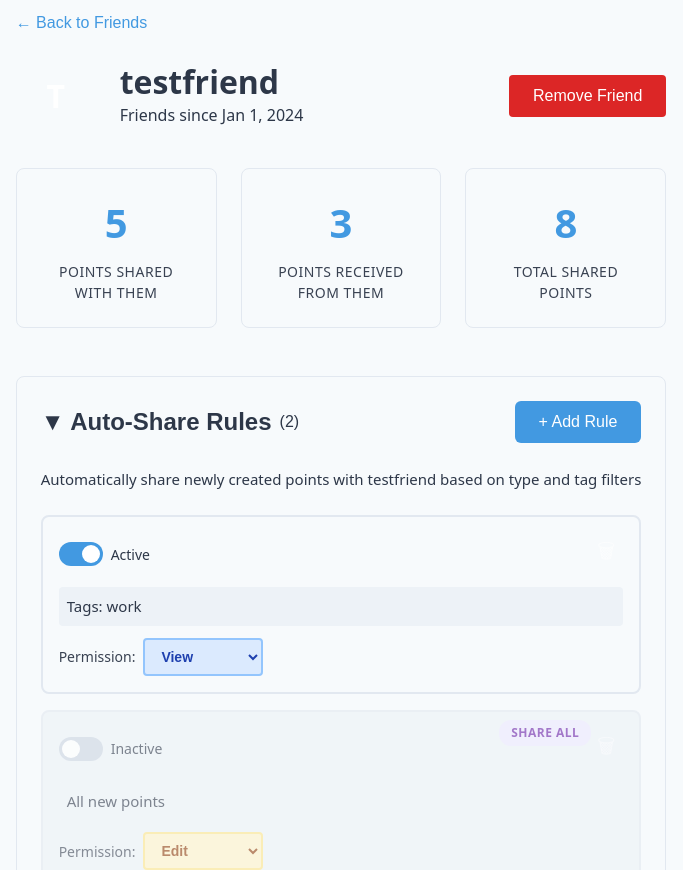
Scenario: FriendDetailPage - Optimistic Updates › shows error message on update failure
Expected: the text "Tags: work" is shown, [59, 587, 623, 626]
Select "Manage" in the dropdown below "Tags: work": (203, 656) [143, 638, 263, 676]
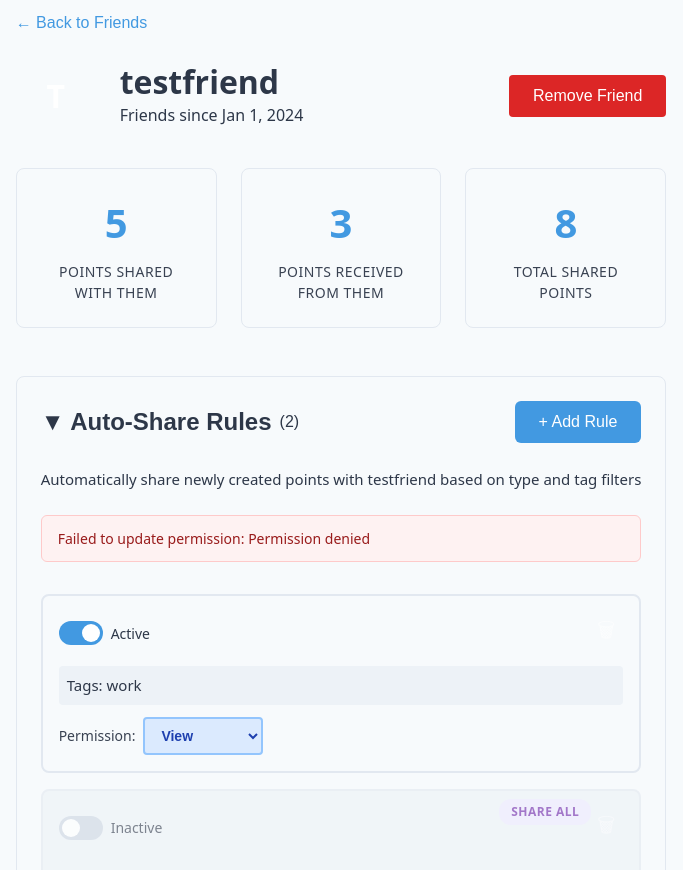
Result: the text "Failed to update permission: Permission denied" is shown at [41, 515, 641, 562]
